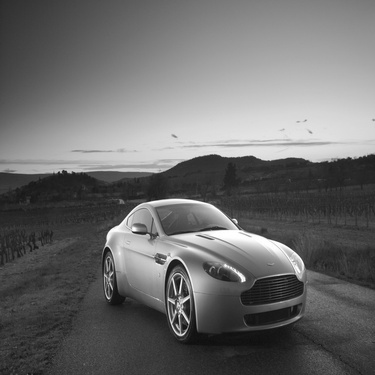car: (95, 189, 311, 351)
